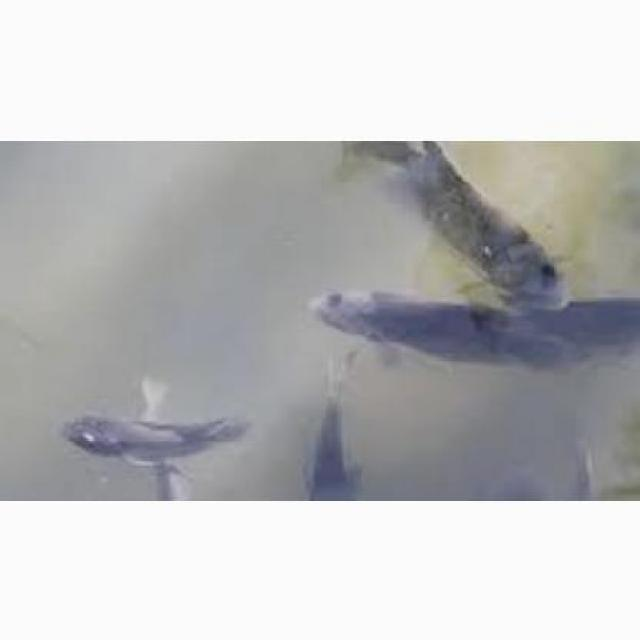gurame: (357, 140, 572, 303), (301, 278, 502, 374), (61, 407, 241, 467)
